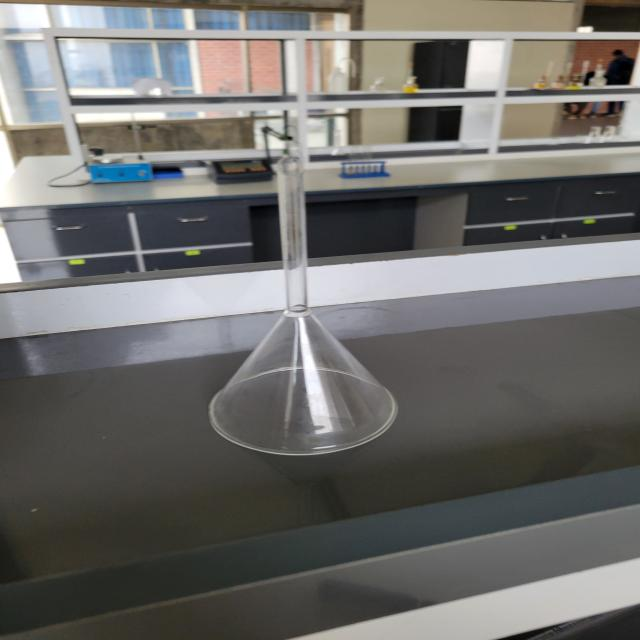Funnel: (176, 103, 438, 483)
